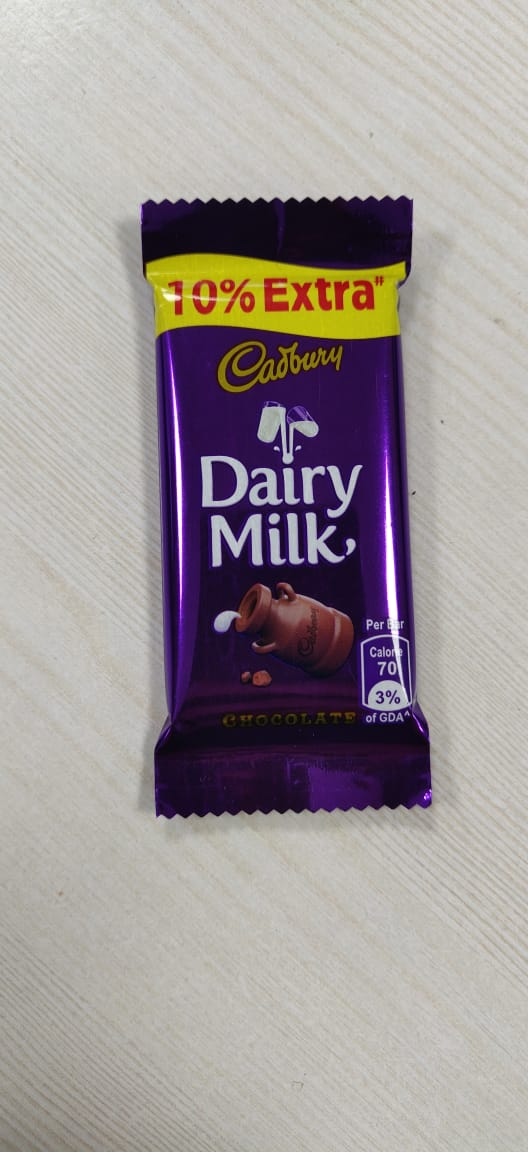dairy milk: (103, 179, 457, 841)
